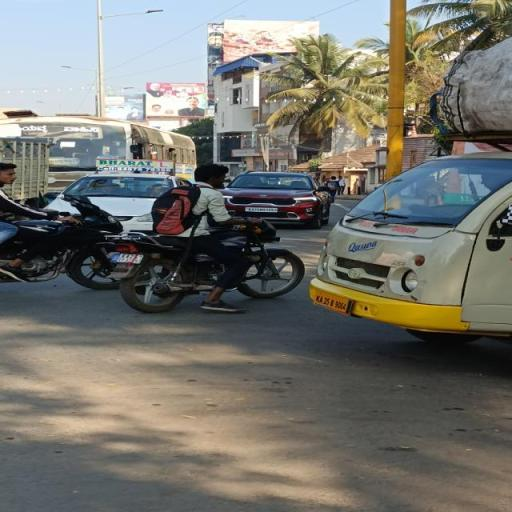bike: (104, 162, 307, 316)
numberplate: (110, 252, 142, 269)
withouthelmet: (195, 164, 227, 186)
